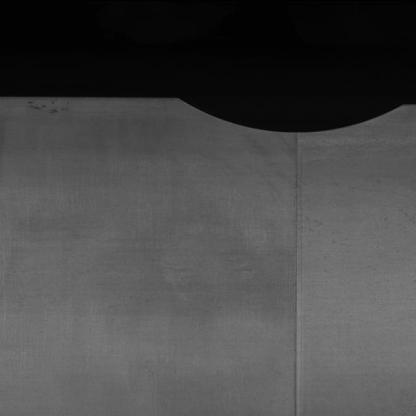crescent_gap: (156, 91, 415, 140)
welding_line: (278, 117, 312, 413)
